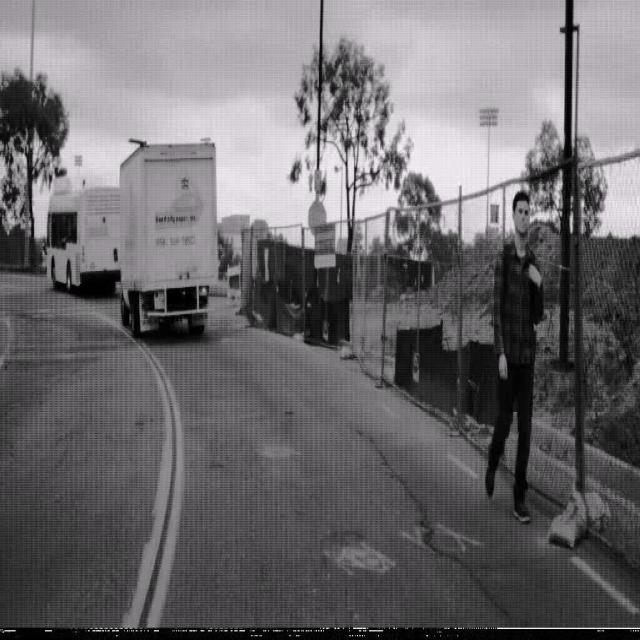stop_sign: (307, 198, 327, 236)
